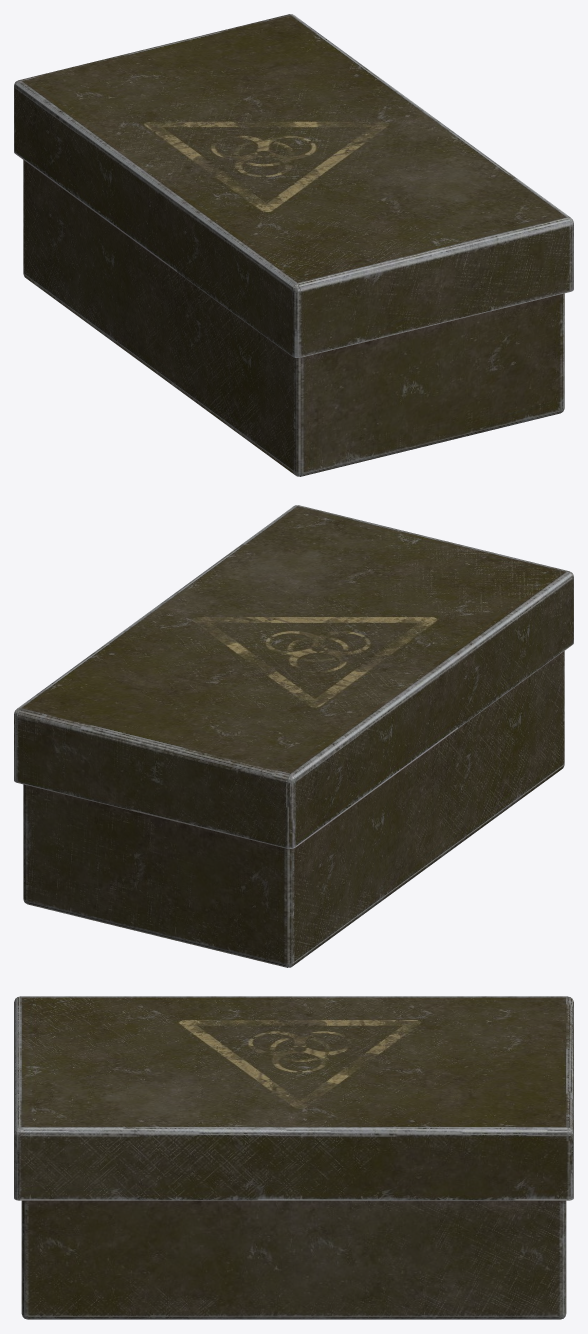
3 renders of one model, top to bottom at view 1: azimuth 30°, elevation 25°; view 2: azimuth 150°, elevation 25°; view 3: azimuth 270°, elevation 25°, orthographic.
Visible parts, largest first — view 1: Cube; view 2: Cube; view 3: Cube.
Boxes of the visible parts, x1,y1,x2,y2 form: Cube: (14, 14, 573, 476); Cube: (14, 505, 573, 967); Cube: (14, 996, 573, 1319).
Size of the model in its own units: 208 by 139 by 364.
Materials: 1 (1 with a texture image).
